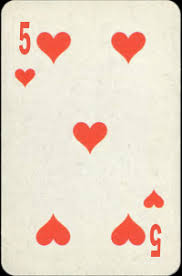five of hearts: (3, 2, 178, 274)
